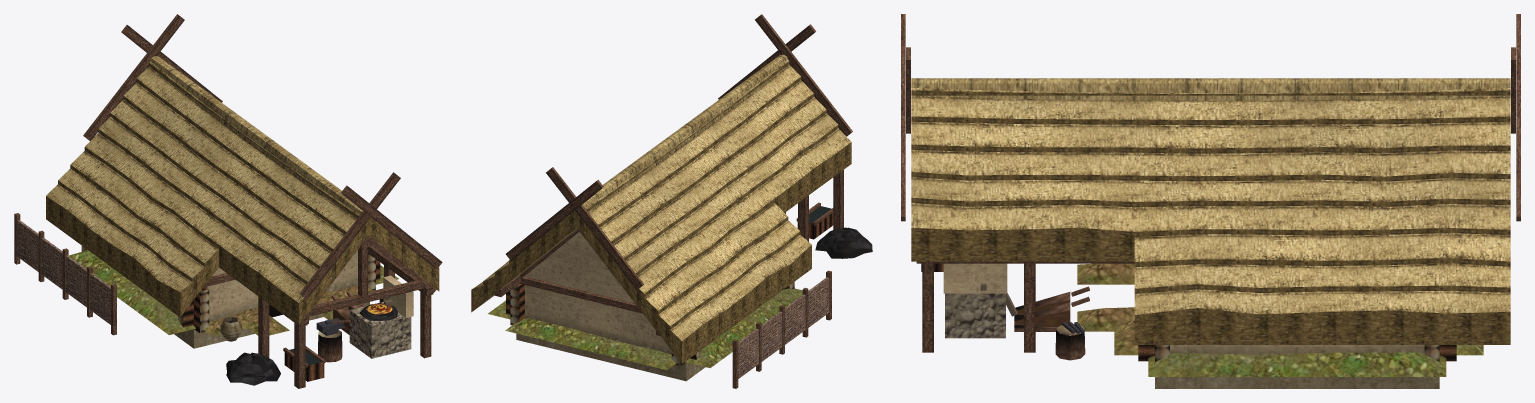
File: kovar.glb
3 views of the same model, side by side, from view 1: azimuth 30°, elevation 25°; view 2: azimuth 150°, elevation 25°; view 3: azimuth 270°, elevation 25° (orthographic). The views are drawn at different scales.
Parts seen in each view (by area): view 1: kovar; view 2: kovar; view 3: kovar.
Part boxes in pixels (left/top/right/bottom): kovar: left=14, top=14, right=442, bottom=388; kovar: left=471, top=14, right=872, bottom=388; kovar: left=901, top=14, right=1520, bottom=388.
Bounding box in the file's own units: 6.39 × 4.86 × 9.15.
1 material, 1 textured.
